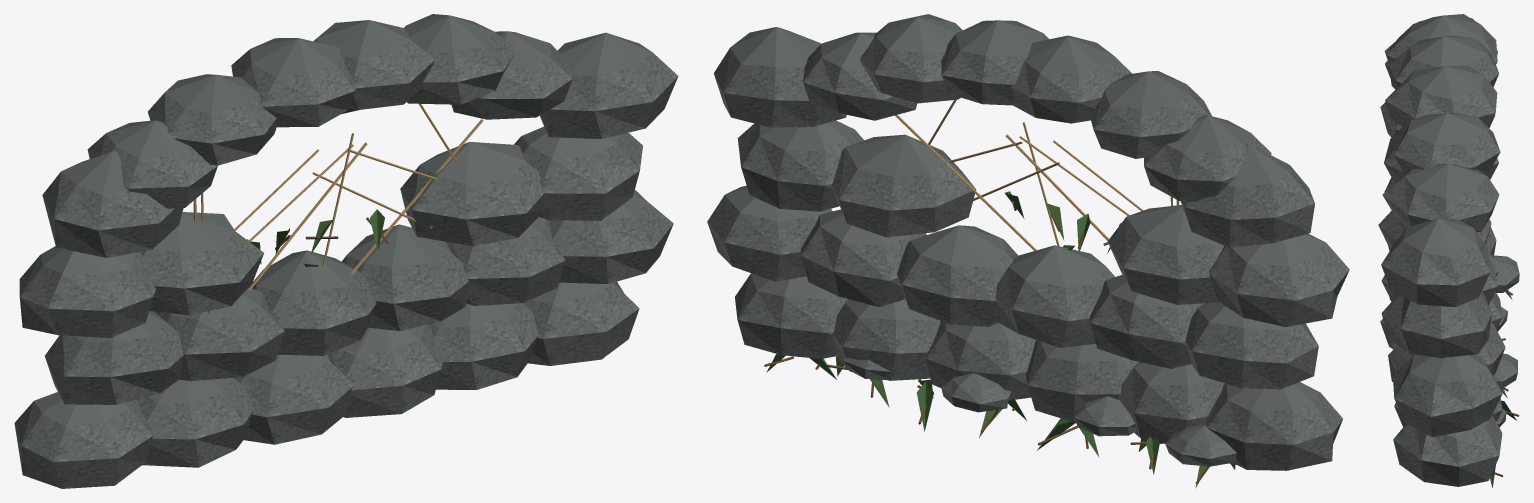
Rendered from en-014_cave_wall_module__arch.obj.
3 views of the same model, side by side, from view 1: azimuth 30°, elevation 25°; view 2: azimuth 150°, elevation 25°; view 3: azimuth 270°, elevation 25° (orthographic). The views are drawn at different scales.
Visible parts, largest first — view 1: en-014_cave_wall_module__arch; view 2: en-014_cave_wall_module__arch; view 3: en-014_cave_wall_module__arch.
Part boxes in pixels (bbox=[...]): en-014_cave_wall_module__arch: bbox=[14, 14, 678, 488]; en-014_cave_wall_module__arch: bbox=[707, 14, 1349, 488]; en-014_cave_wall_module__arch: bbox=[1378, 14, 1519, 487].
Size of the model in its own units: 3.86 by 2.32 by 0.8646.
5 materials, 5 textured.
